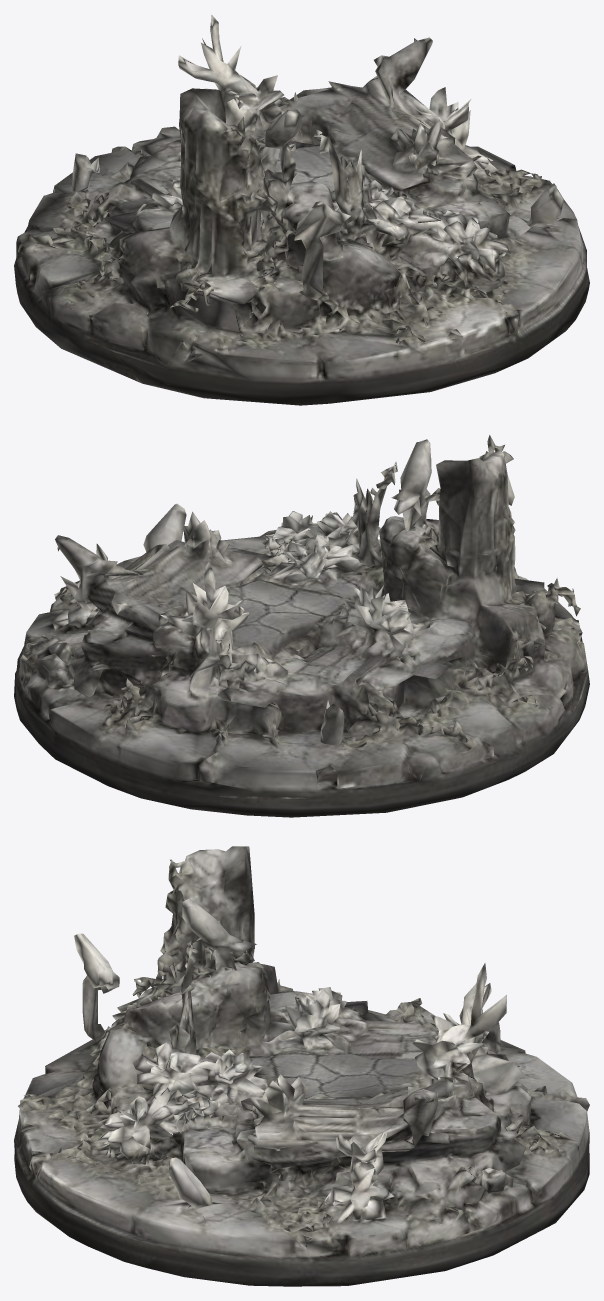
Rendered from kit_izmir_doves_ruin.glb.
3 views of the same model, one above another, from view 1: azimuth 30°, elevation 25°; view 2: azimuth 150°, elevation 25°; view 3: azimuth 270°, elevation 25° (orthographic).
Parts seen in each view (by area): view 1: Mesh1.0; view 2: Mesh1.0; view 3: Mesh1.0.
Boxes of the visible parts, <box> form: Mesh1.0: <box>14,15,589,405</box>; Mesh1.0: <box>14,435,589,817</box>; Mesh1.0: <box>14,846,589,1286</box>.
Bounding box in the file's own units: 4.1 × 2 × 4.09.
Materials: 1 (1 with a texture image).
